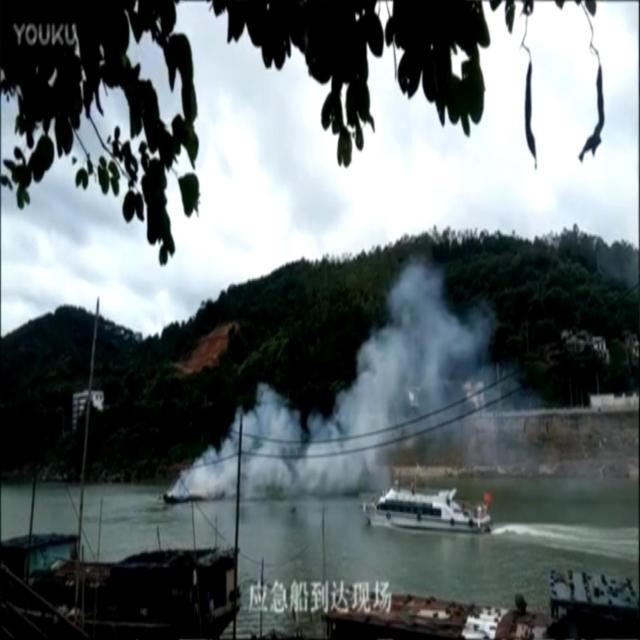Smoke: (164, 253, 572, 502)
